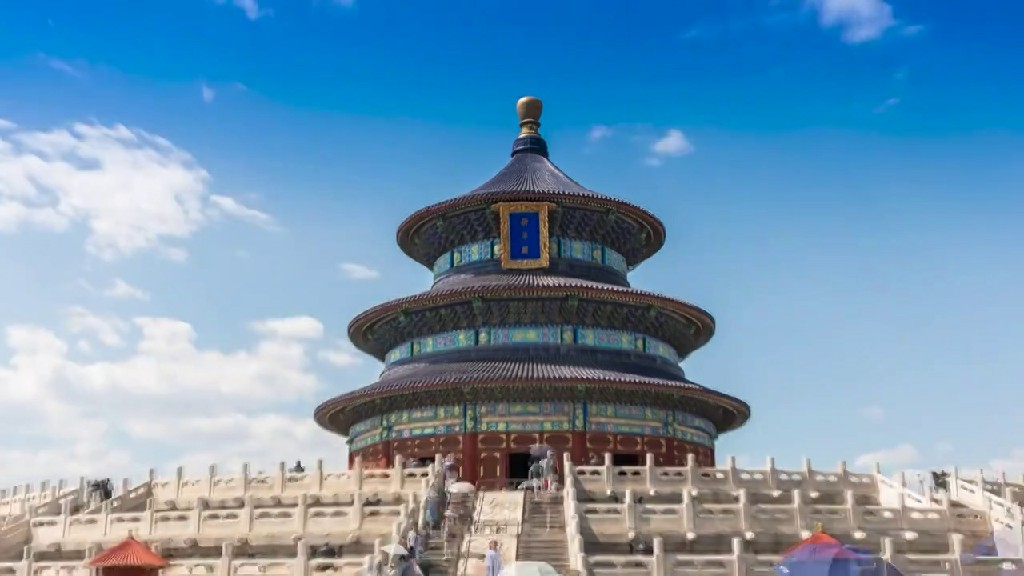Heaven: (312, 94, 749, 490)
